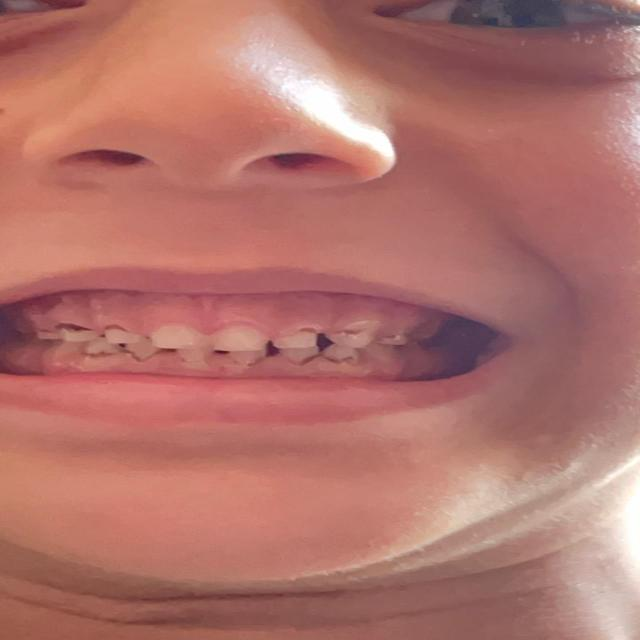tooth: (271, 325, 317, 349), (214, 328, 262, 348), (153, 330, 195, 346), (178, 348, 210, 368), (329, 332, 367, 348), (284, 350, 322, 366), (227, 351, 262, 367), (100, 330, 132, 342), (61, 329, 91, 341), (90, 342, 114, 357), (386, 331, 410, 345), (332, 347, 356, 361), (129, 346, 155, 356), (39, 329, 53, 339)
